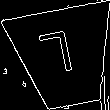L_S: (44, 30, 85, 86)
